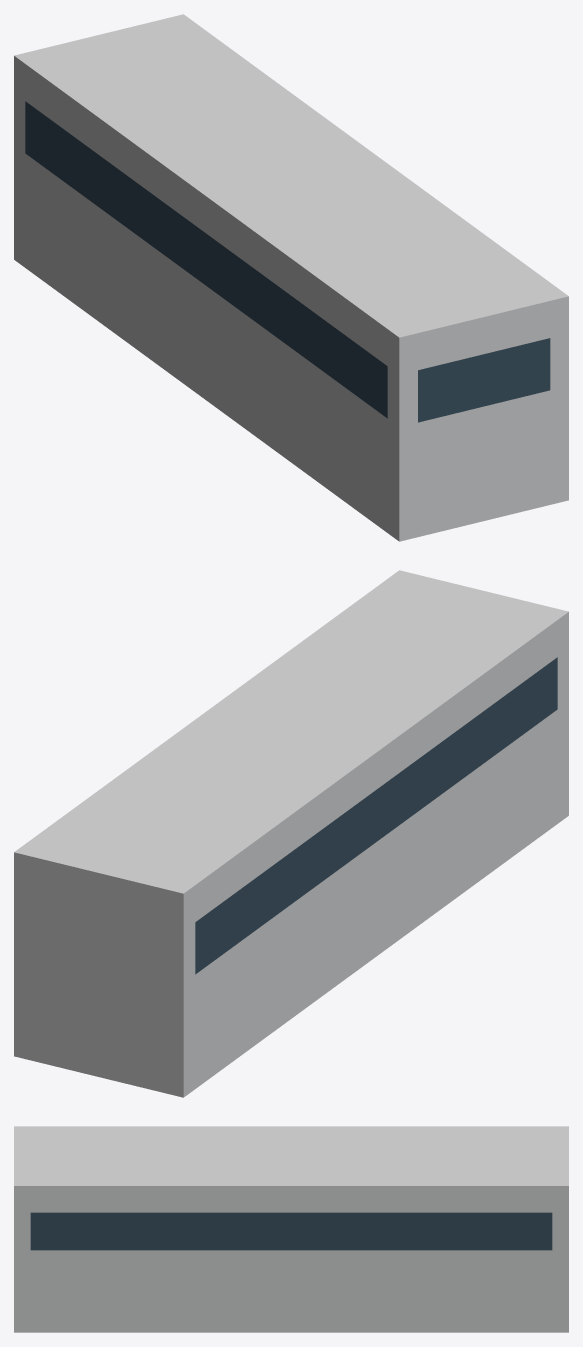
Rendered from 0_far.fbx.
The picture shows the model from 3 angles, top to bottom: view 1: azimuth 30°, elevation 25°; view 2: azimuth 150°, elevation 25°; view 3: azimuth 270°, elevation 25°; orthographic projection. The views are drawn at different scales.
Visible parts, largest first — view 1: 14_0_far; view 2: 14_0_far; view 3: 14_0_far.
Boxes of the visible parts, box(x1,y1,x2,y2) form: 14_0_far: box(14, 14, 568, 541); 14_0_far: box(14, 570, 568, 1097); 14_0_far: box(14, 1126, 568, 1332).
Size of the model in its own units: 2.54 by 2.92 by 10.
